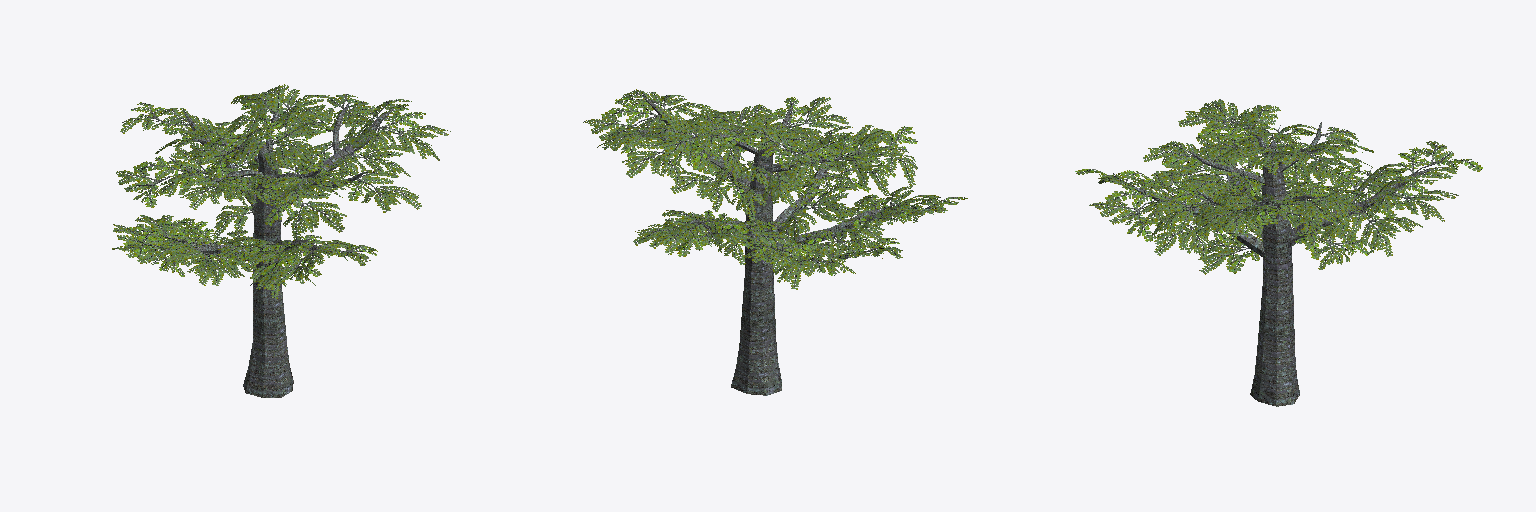
The picture shows the model from 3 angles: view 1: azimuth 30°, elevation 25°; view 2: azimuth 150°, elevation 25°; view 3: azimuth 270°, elevation 25°; orthographic projection.
Parts seen in each view (by area): view 1: polySurface1588; view 2: polySurface1588; view 3: polySurface1588.
Boxes of the visible parts, x1=… form: polySurface1588: x1=112, y1=84, x2=450, y2=397; polySurface1588: x1=583, y1=89, x2=967, y2=395; polySurface1588: x1=1075, y1=99, x2=1482, y2=406.
Bounding box in the file's own units: 210 × 155 × 219.
Materials: 1 (1 with a texture image).